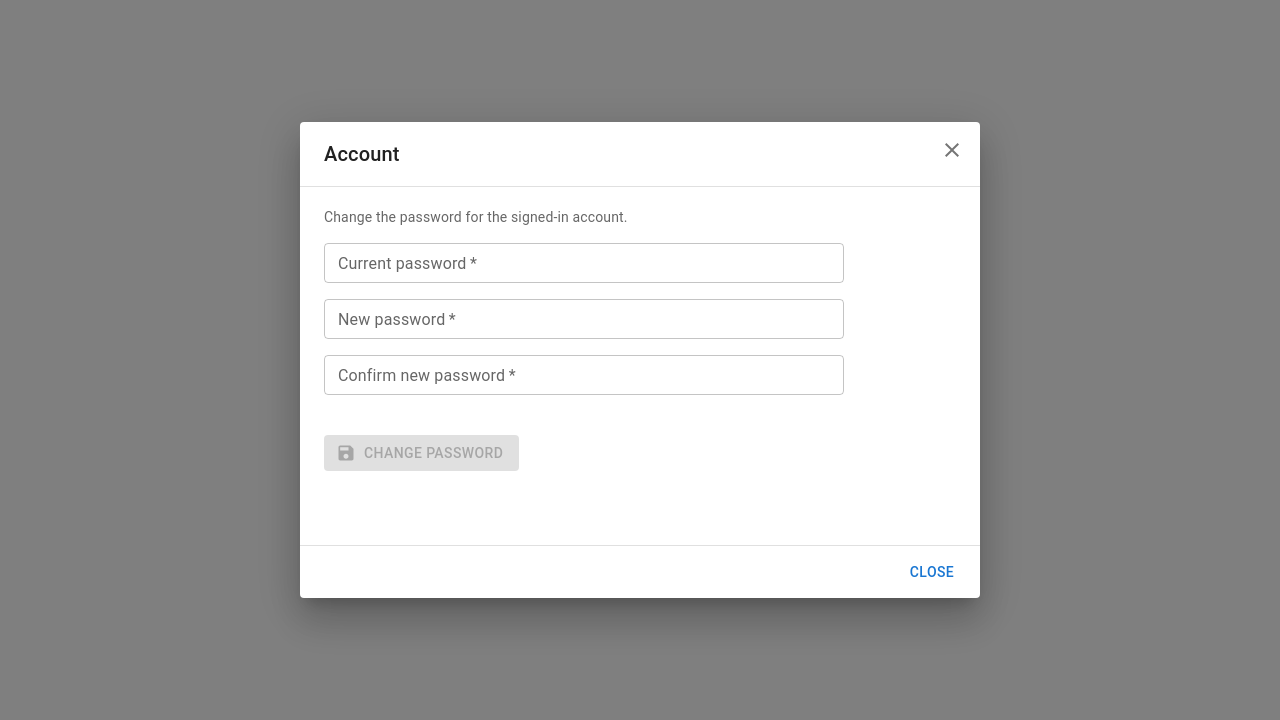
Scenario: revokes a replacement session returned after the operator logged out
Step 1. Type "old-secret" into the password field labelled "Current password *" → (584, 263), box [324,243,844,283]
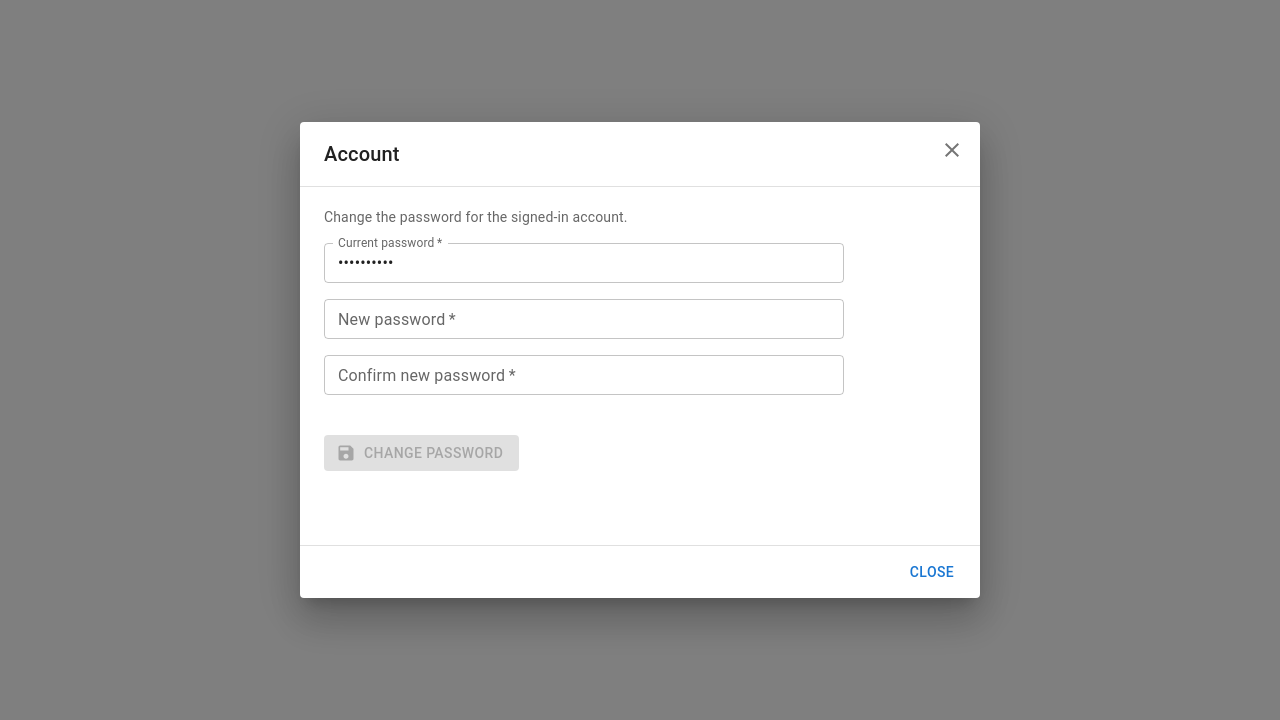
Step 2. Type "new-secret" into the password field labelled "New password *" → (584, 319), box [324,299,844,339]
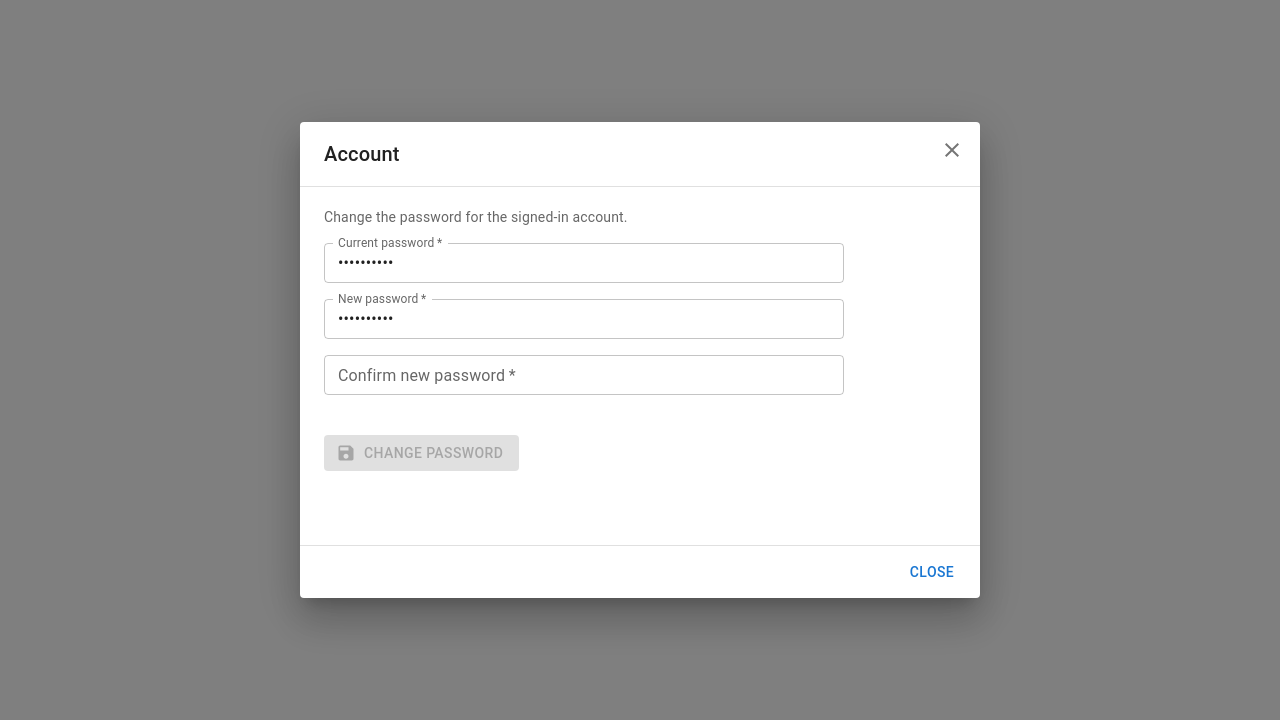
Step 3. Type "new-secret" into the password field labelled "Confirm new password *" → (584, 375), box [324,355,844,395]
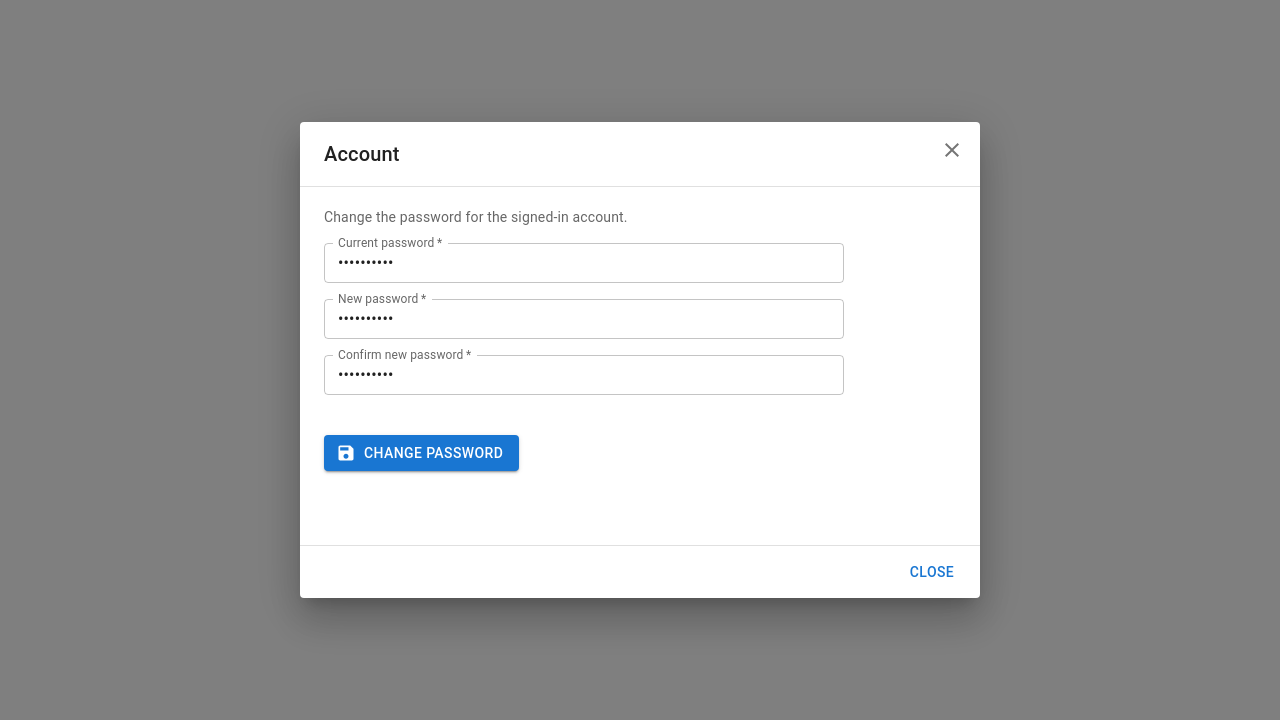
Step 4. Click the button "Change password" → (422, 453), box [324,435,519,471]
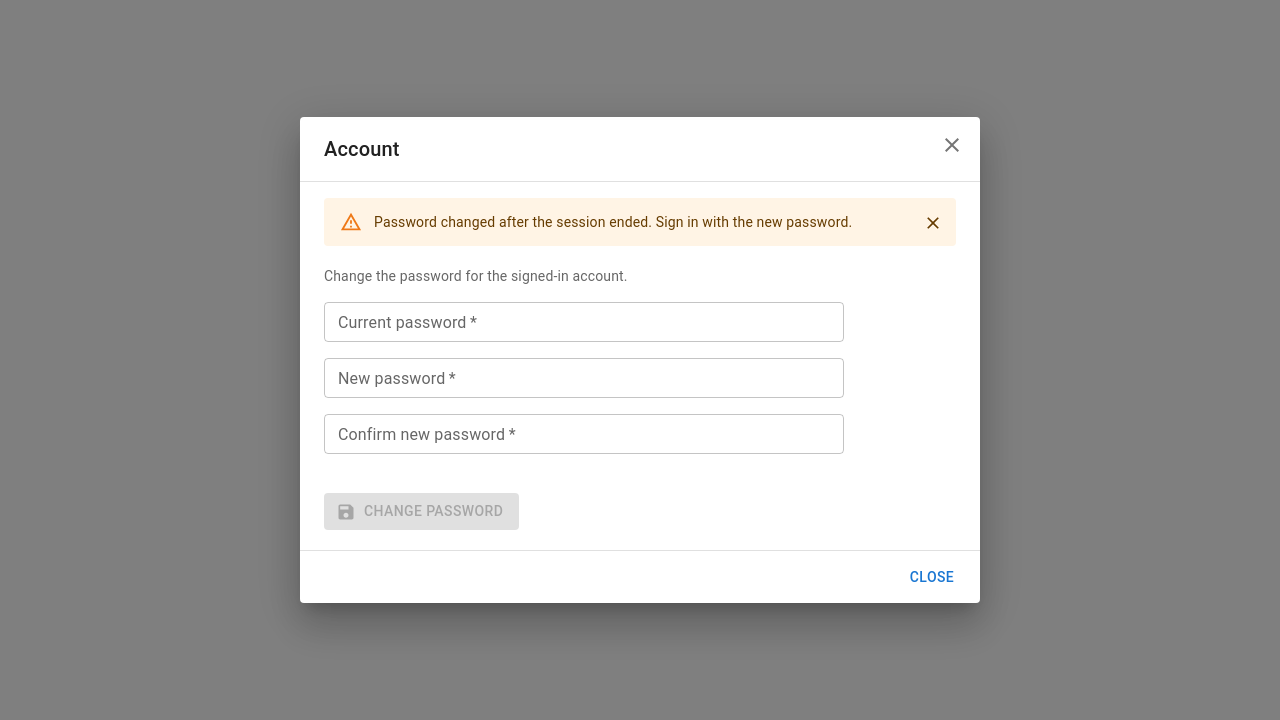
Expected: the text "Password changed after the session ended" is shown, [374,214,852,230]
